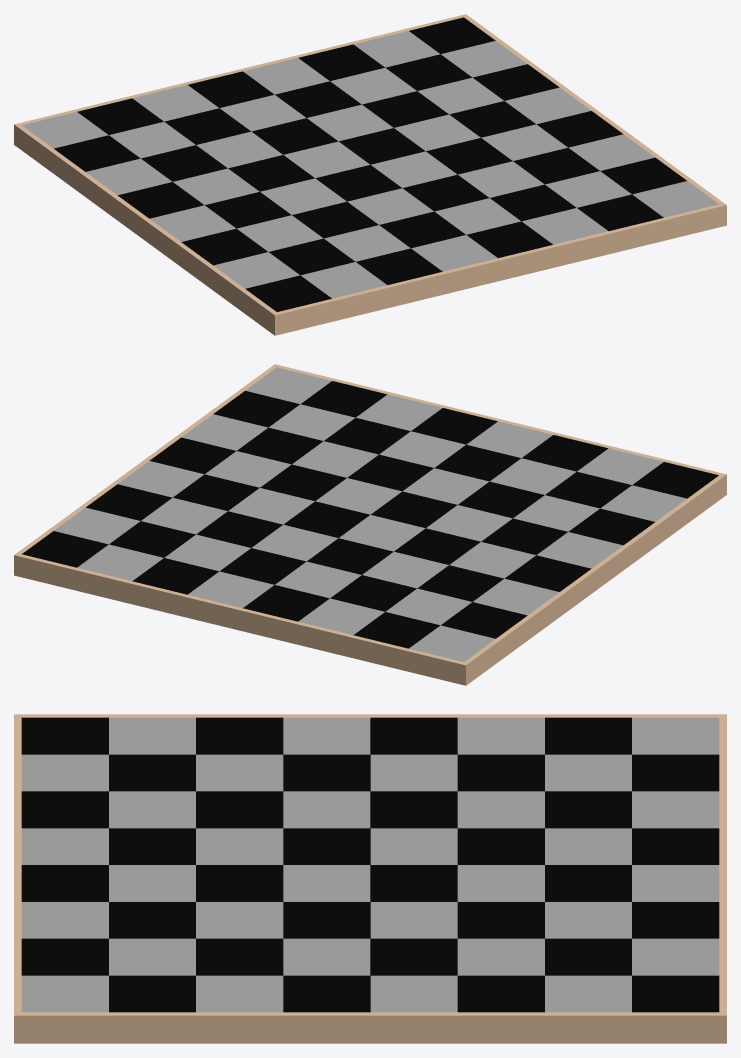
The model's file is Chess_Ground_Unity.fbx.
The picture shows the model from 3 angles, top to bottom: view 1: azimuth 30°, elevation 25°; view 2: azimuth 150°, elevation 25°; view 3: azimuth 270°, elevation 25°; orthographic projection. The views are drawn at different scales.
Visible parts, largest first — view 1: Chess_Ground_1, Chess_Ground_2, Chess_Ground_3; view 2: Chess_Ground_1, Chess_Ground_2, Chess_Ground_3; view 3: Chess_Ground_1, Chess_Ground_2, Chess_Ground_3.
Part boxes in pixels (x1,y1,x2,y2): Chess_Ground_1: (22,17,718,311); Chess_Ground_2: (14,14,726,335); Chess_Ground_3: (14,125,726,335); Chess_Ground_1: (22,367,718,661); Chess_Ground_2: (14,364,726,685); Chess_Ground_3: (14,475,726,684); Chess_Ground_1: (21,717,719,1012); Chess_Ground_2: (14,714,726,1043); Chess_Ground_3: (14,1016,726,1043).
Bounding box in the file's own units: 15.78 × 0.6802 × 15.78.
